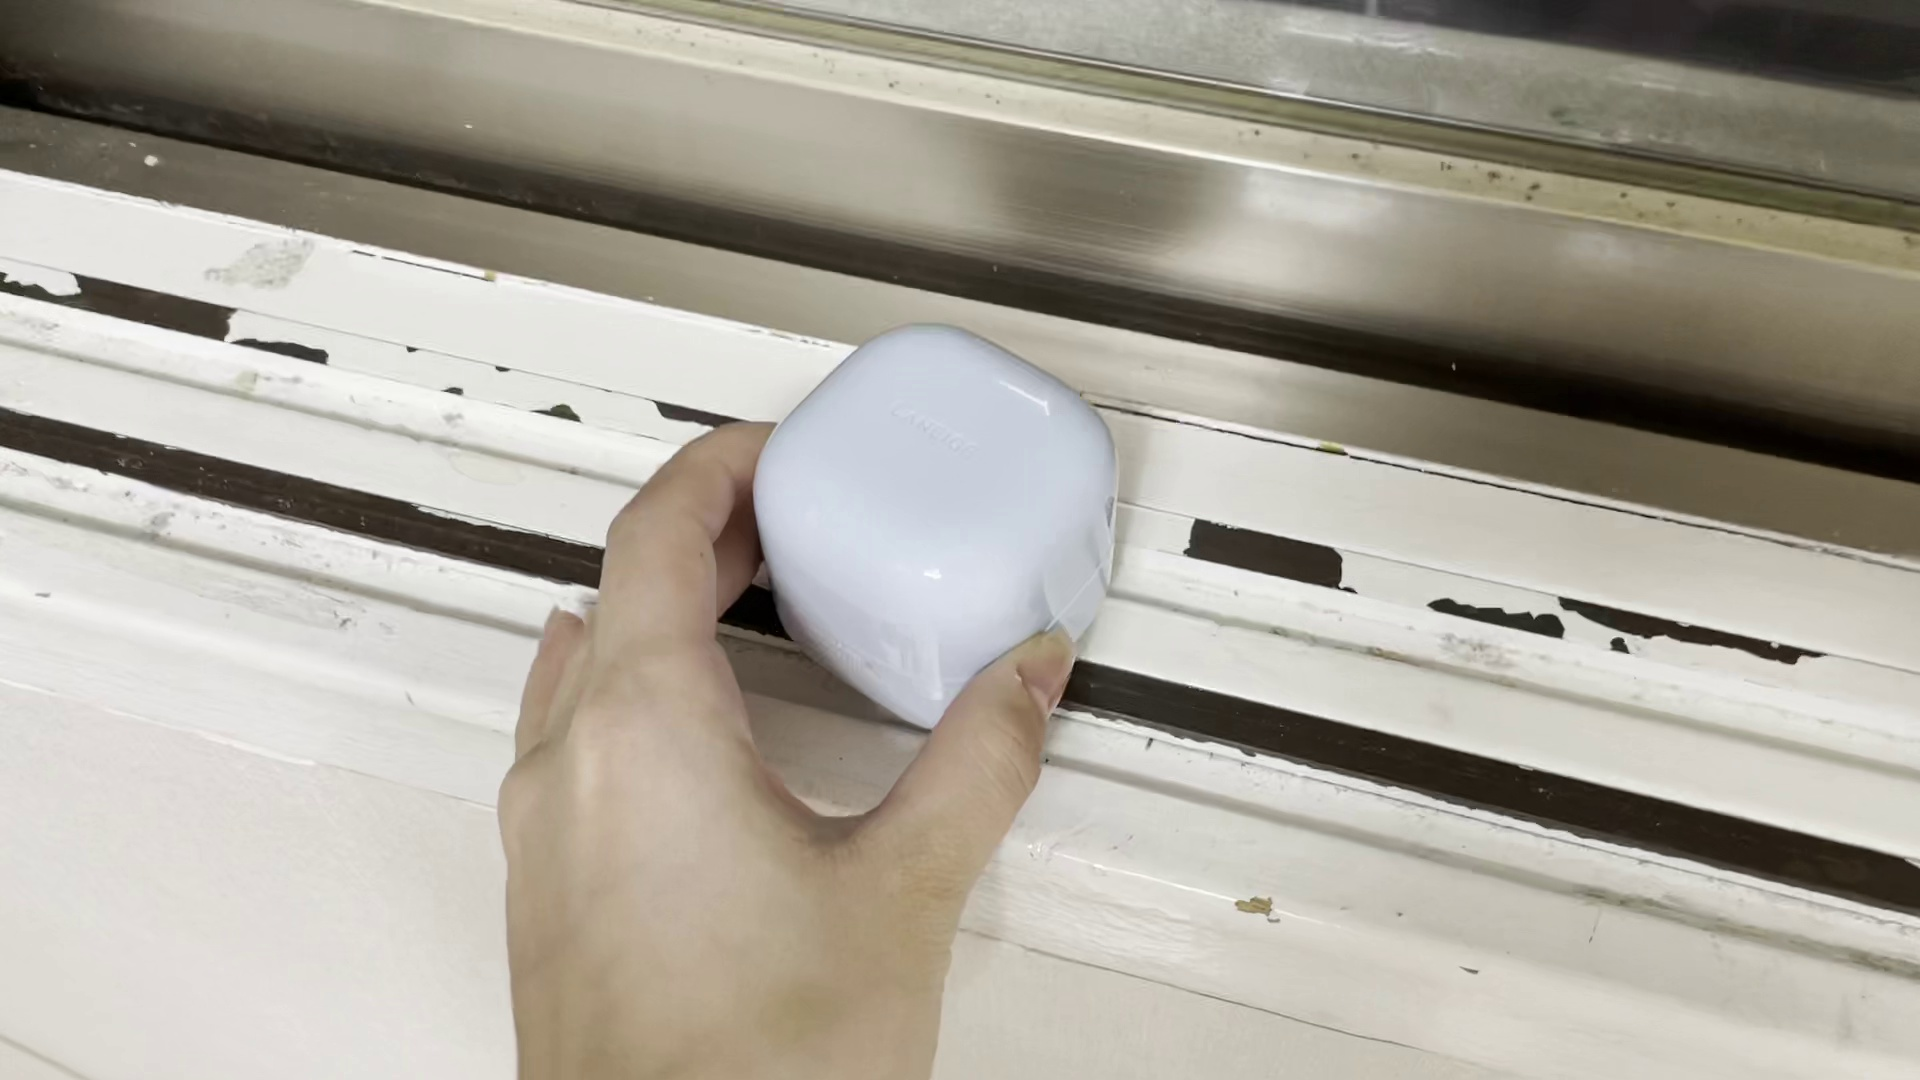cream: (754, 324, 1118, 733)
